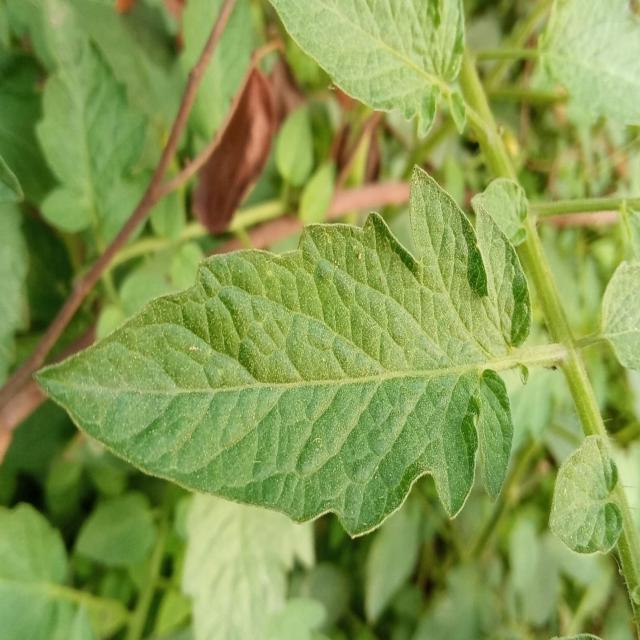Healthy: (20, 144, 603, 640)
